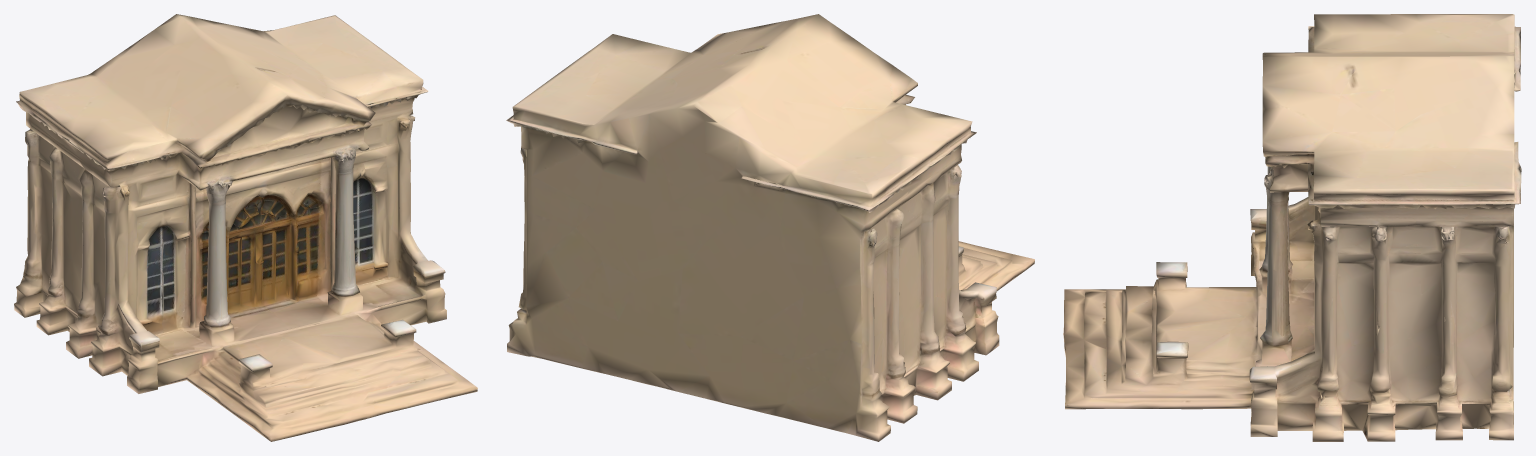
The model's file is museum_building.glb.
The picture shows the model from 3 angles, left to right: view 1: azimuth 30°, elevation 25°; view 2: azimuth 150°, elevation 25°; view 3: azimuth 270°, elevation 25°; orthographic projection. The views are drawn at different scales.
Visible parts, largest first — view 1: museum_building; view 2: museum_building; view 3: museum_building.
Boxes of the visible parts, x1=… form: museum_building: x1=14, y1=14, x2=477, y2=441; museum_building: x1=506, y1=14, x2=1034, y2=441; museum_building: x1=1063, y1=14, x2=1521, y2=441.
Bounding box in the file's own units: 1.88 × 1.42 × 2.
Materials: 1 (1 with a texture image).
